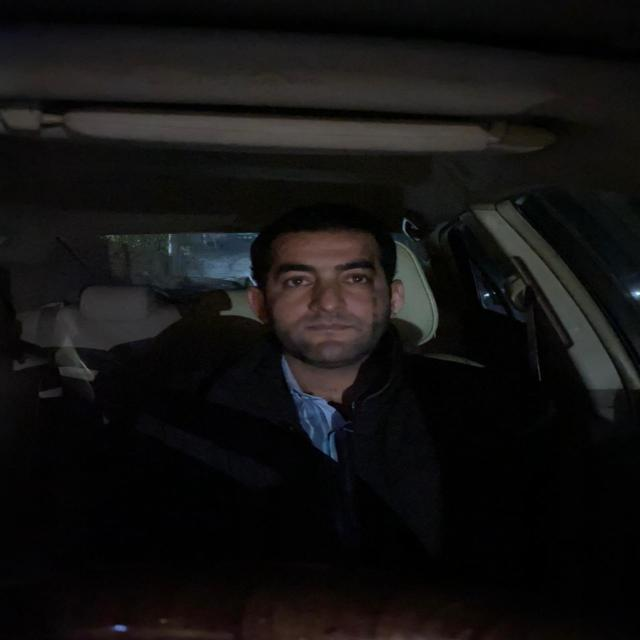person: (243, 202, 405, 368)
